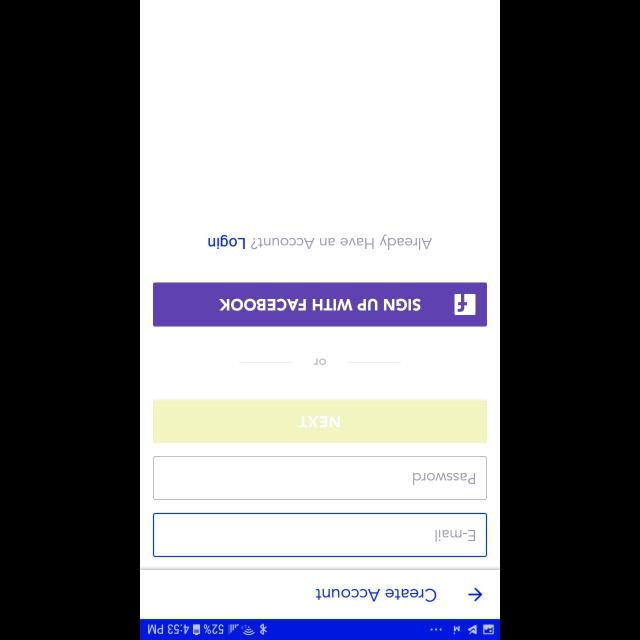icon: (468, 587, 482, 601)
input: (153, 513, 487, 557), (153, 456, 487, 500)
text: (208, 234, 432, 250), (316, 588, 436, 602), (413, 473, 475, 485), (435, 530, 475, 542), (314, 358, 326, 366)
textbutton: (153, 282, 487, 326), (153, 401, 487, 444)
uppertaskbar: (140, 618, 500, 640)
